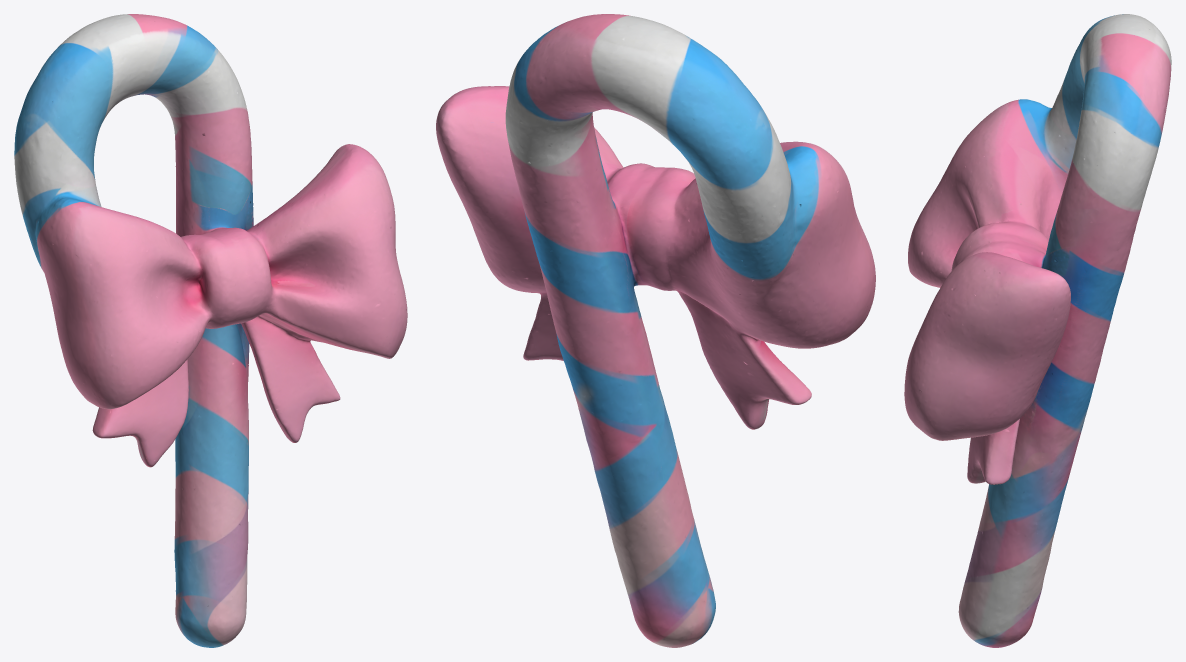
The model's file is candy-elegance.glb.
3 views of the same model, side by side, from view 1: azimuth 30°, elevation 25°; view 2: azimuth 150°, elevation 25°; view 3: azimuth 270°, elevation 25° (orthographic). The views are drawn at different scales.
Size of the model in its own units: 1.13 by 1.9 by 0.7622.
1 material, 1 textured.
